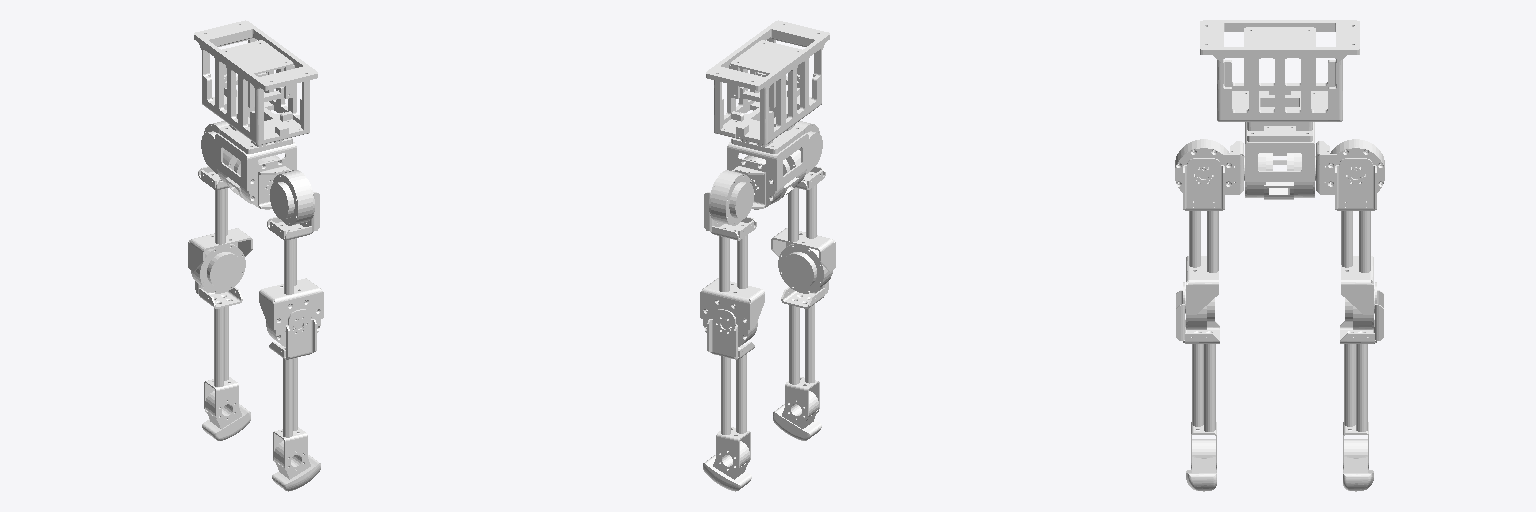
robot.urdf — SF_bipedal:
<?xml version="1.0" encoding="utf-8"?>
<robot
  name="SF_bipedal">
  <link
    name="base_link">
    <inertial>
      <origin
        xyz="0.0000000 -0.0001528 -0.0041040"
        rpy="0 0 0" />
      <mass
        value="2.0725291" />
      <inertia
        ixx="0.0145041"
        ixy="0.0000000"
        ixz="0.0000000"
        iyy="0.0118815"
        iyz="0.0000062"
        izz="0.0059465" />
    </inertial>
    <visual>
      <origin
        xyz="0 0 0"
        rpy="0 0 0" />
      <geometry>
        <mesh
          filename="meshes/base_link.STL" />
      </geometry>
      <material
        name="">
        <color
          rgba="1 1 1 1" />
      </material>
    </visual>
    <collision>
      <origin
        xyz="0 0 0"
        rpy="0 0 0" />
      <geometry>
        <mesh
          filename="meshes/base_link.STL" />
      </geometry>
    </collision>
  </link>
  <link
    name="left_hip_pitch_link">
    <inertial>
      <origin
        xyz="-0.0023863 0.0000000 0.0511609"
        rpy="0 0 0" />
      <mass
        value="0.4380000" />
      <inertia
        ixx="0.0003894"
        ixy="0.0000000"
        ixz="0.0000025"
        iyy="0.0002773"
        iyz="0.0000000"
        izz="0.0002167" />
    </inertial>
    <visual>
      <origin
        xyz="0 0 0"
        rpy="0 0 0" />
      <geometry>
        <mesh
          filename="meshes/left_hip_pitch_link.STL" />
      </geometry>
      <material
        name="">
        <color
          rgba="1 1 1 1" />
      </material>
    </visual>
    <collision>
      <origin
        xyz="0 0 0"
        rpy="0 0 0" />
      <geometry>
        <mesh
          filename="meshes/left_hip_pitch_link.STL" />
      </geometry>
    </collision>
  </link>
  <joint
    name="left_hip_pitch_joint"
    type="revolute">
    <origin
      xyz="0 0.049 -0.067"
      rpy="-1.5708 3.1416 0" />
    <parent
      link="base_link" />
    <child
      link="left_hip_pitch_link" />
    <axis
      xyz="0 0 -1" />
    <limit
      lower="-1.57"
      upper="1.57"
      effort="10"
      velocity="20" />
  </joint>
  <link
    name="left_hip_roll_link">
    <inertial>
      <origin
        xyz="0.0054951 -0.1648534 -0.0187913"
        rpy="0 0 0" />
      <mass
        value="0.5673275" />
      <inertia
        ixx="0.0025730"
        ixy="0.0001006"
        ixz="0.0000001"
        iyy="0.0003215"
        iyz="-0.0001472"
        izz="0.0024395" />
    </inertial>
    <visual>
      <origin
        xyz="0 0 0"
        rpy="0 0 0" />
      <geometry>
        <mesh
          filename="meshes/left_hip_roll_link.STL" />
      </geometry>
      <material
        name="">
        <color
          rgba="1 1 1 1" />
      </material>
    </visual>
    <collision>
      <origin
        xyz="0 0 0"
        rpy="0 0 0" />
      <geometry>
        <mesh
          filename="meshes/left_hip_roll_link.STL" />
      </geometry>
    </collision>
  </link>
  <joint
    name="left_hip_roll_joint"
    type="revolute">
    <origin
      xyz="-0.0205 0 0.055"
      rpy="0 -1.5708 0" />
    <parent
      link="left_hip_pitch_link" />
    <child
      link="left_hip_roll_link" />
    <axis
      xyz="0 0 -1" />
    <limit
      lower="-1.57"
      upper="0.4"
      effort="10"
      velocity="20" />
  </joint>
  <link
    name="left_knee_link">
    <inertial>
      <origin
        xyz="-0.0037521 -0.1716951 -0.0213662"
        rpy="0 0 0" />
      <mass
        value="0.2830000" />
      <inertia
        ixx="0.0024385"
        ixy="-0.0000882"
        ixz="0.0000021"
        iyy="0.0001204"
        iyz="-0.0001394"
        izz="0.0024510" />
    </inertial>
    <visual>
      <origin
        xyz="0 0 0"
        rpy="0 0 0" />
      <geometry>
        <mesh
          filename="meshes/left_knee_link.STL" />
      </geometry>
      <material
        name="">
        <color
          rgba="1 1 1 1" />
      </material>
    </visual>
    <collision>
      <origin
        xyz="0 0 0"
        rpy="0 0 0" />
      <geometry>
        <mesh
          filename="meshes/left_knee_link.STL" />
      </geometry>
    </collision>
    <!-- <visual>
      <origin xyz="0 0 -0.05" rpy="0 0 0" />
      <geometry>
        <box size="0.08 0.04 0.02" />
      </geometry>
      <material name="shoe_black">
        <color rgba="0.9 0.9 0.1 1.0" />
      </material>
    </visual> -->
  </link>
  <joint
    name="left_knee_joint"
    type="revolute">
    <origin
      xyz="0.0255 -0.2 -0.0205"
      rpy="0 1.5708 0" />
    <parent
      link="left_hip_roll_link" />
    <child
      link="left_knee_link" />
    <axis
      xyz="0 0 1" />
    <limit
      lower="-0.2"
      upper="2.2"
      effort="10"
      velocity="20" />
  </joint>
  <link
    name="right_hip_pitch_link">
    <inertial>
      <origin
        xyz="-0.0023863 0.0000000 0.0511609"
        rpy="0 0 0" />
      <mass
        value="0.4380000" />
      <inertia
        ixx="0.0003894"
        ixy="0.0000000"
        ixz="0.0000025"
        iyy="0.0002773"
        iyz="0.0000000"
        izz="0.0002167" />
    </inertial>
    <visual>
      <origin
        xyz="0 0 0"
        rpy="0 0 0" />
      <geometry>
        <mesh
          filename="meshes/right_hip_pitch_link.STL" />
      </geometry>
      <material
        name="">
        <color
          rgba="1 1 1 1" />
      </material>
    </visual>
    <collision>
      <origin
        xyz="0 0 0"
        rpy="0 0 0" />
      <geometry>
        <mesh
          filename="meshes/right_hip_pitch_link.STL" />
      </geometry>
    </collision>
  </link>
  <joint
    name="right_hip_pitch_joint"
    type="revolute">
    <origin
      xyz="0 -0.049 -0.067"
      rpy="-1.5707963267949 0 3.14159265358979" />
    <parent
      link="base_link" />
    <child
      link="right_hip_pitch_link" />
    <axis
      xyz="0 0 -1" />
    <limit
      lower="-1.57"
      upper="1.57"
      effort="10"
      velocity="20" />
  </joint>
  <link
    name="right_hip_roll_link">
    <inertial>
      <origin
        xyz="-0.0054951 -0.1648534 -0.0187913"
        rpy="0 0 0" />
      <mass
        value="0.5673275" />
      <inertia
        ixx="0.0025730"
        ixy="-0.0001006"
        ixz="-0.0000105"
        iyy="0.0003215"
        iyz="-0.0001472"
        izz="0.0024395" />
    </inertial>
    <visual>
      <origin
        xyz="0 0 0"
        rpy="0 0 0" />
      <geometry>
        <mesh
          filename="meshes/right_hip_roll_link.STL" />
      </geometry>
      <material
        name="">
        <color
          rgba="1 1 1 1" />
      </material>
    </visual>
    <collision>
      <origin
        xyz="0 0 0"
        rpy="0 0 0" />
      <geometry>
        <mesh
          filename="meshes/right_hip_roll_link.STL" />
      </geometry>
    </collision>
  </link>
  <joint
    name="right_hip_roll_joint"
    type="revolute">
    <origin
      xyz="-0.0205 0 0.055"
      rpy="3.1416 1.5708 0" />
    <parent
      link="right_hip_pitch_link" />
    <child
      link="right_hip_roll_link" />
    <axis
      xyz="0 0 -1" />
    <limit
      lower="-0.4"
      upper="1.57"
      effort="10"
      velocity="20" />
  </joint>
  <link
    name="right_knee_link">
    <inertial>
      <origin
        xyz="0.0037519 -0.1716952 -0.0213662"
        rpy="0 0 0" />
      <mass
        value="0.2830000" />
      <inertia
        ixx="0.0024385"
        ixy="0.0000882"
        ixz="0.0000074"
        iyy="0.0001204"
        iyz="-0.0001394"
        izz="0.0024510" />
    </inertial>
    <visual>
      <origin
        xyz="0 0 0"
        rpy="0 0 0" />
      <geometry>
        <mesh
          filename="meshes/right_knee_link.STL" />
      </geometry>
      <material
        name="">
        <color
          rgba="1 1 1 1" />
      </material>
    </visual>
    <collision>
      <origin
        xyz="0 0 0"
        rpy="0 0 0" />
      <geometry>
        <mesh
          filename="meshes/right_knee_link.STL" />
      </geometry>
    </collision>
    <!-- <visual>
      <origin xyz="0 0 -0.05" rpy="0 0 0" />
      <geometry>
        <box size="0.08 0.04 0.02" />
      </geometry>
      <material name="shoe_black">
        <color rgba="0.9 0.9 0.1 1.0" />
      </material>
    </visual> -->
  </link>
  <joint
    name="right_knee_joint"
    type="revolute">
    <origin
      xyz="-0.0255 -0.2 -0.0205"
      rpy="0 -1.5708 0" />
    <parent
      link="right_hip_roll_link" />
    <child
      link="right_knee_link" />
    <axis
      xyz="0 0 1" />
    <limit
      lower="-2.2"
      upper="0.2"
      effort="10"
      velocity="20" />
  </joint>
</robot>

--- What the picture shows (computed from the rendered views, not written in the file) ---
3 views of the same robot in one strip: view 1: azimuth 30°, elevation 25°; view 2: azimuth 150°, elevation 25°; view 3: azimuth 270°, elevation 25° (orthographic).
Model SF_bipedal with 7 links and 6 joints (6 revolute), rooted at base_link, posed every joint at zero.
Links seen in each view (by area): view 1: base_link, right_knee_link, left_hip_roll_link, right_hip_roll_link, left_knee_link, right_hip_pitch_link, left_hip_pitch_link; view 2: base_link, left_knee_link, right_hip_roll_link, left_hip_roll_link, right_knee_link, left_hip_pitch_link, right_hip_pitch_link; view 3: base_link, left_hip_roll_link, right_hip_roll_link, left_knee_link, right_knee_link, left_hip_pitch_link, right_hip_pitch_link.
Boxes of the visible links, bbox=[...] form: base_link: bbox=[194, 20, 317, 209]; right_knee_link: bbox=[269, 309, 320, 491]; left_hip_roll_link: bbox=[188, 166, 252, 293]; right_hip_roll_link: bbox=[259, 192, 323, 346]; left_knee_link: bbox=[195, 281, 250, 440]; right_hip_pitch_link: bbox=[258, 166, 314, 225]; left_hip_pitch_link: bbox=[201, 121, 228, 173]; base_link: bbox=[706, 20, 829, 209]; left_knee_link: bbox=[703, 309, 754, 491]; right_hip_roll_link: bbox=[771, 166, 835, 293]; left_hip_roll_link: bbox=[700, 192, 764, 346]; right_knee_link: bbox=[773, 281, 828, 440]; left_hip_pitch_link: bbox=[709, 166, 765, 225]; right_hip_pitch_link: bbox=[795, 121, 822, 173]; base_link: bbox=[1200, 20, 1359, 199]; left_hip_roll_link: bbox=[1335, 158, 1376, 329]; right_hip_roll_link: bbox=[1183, 158, 1224, 329]; left_knee_link: bbox=[1340, 282, 1383, 491]; right_knee_link: bbox=[1176, 282, 1219, 491]; left_hip_pitch_link: bbox=[1316, 139, 1384, 194]; right_hip_pitch_link: bbox=[1175, 139, 1243, 194].
Bounding box of the posed robot: 0.095 × 0.288 × 0.6839 m (x, y, z).
Meshes: 7 distinct files referenced, 7 mesh visuals loaded (7 binary STL).